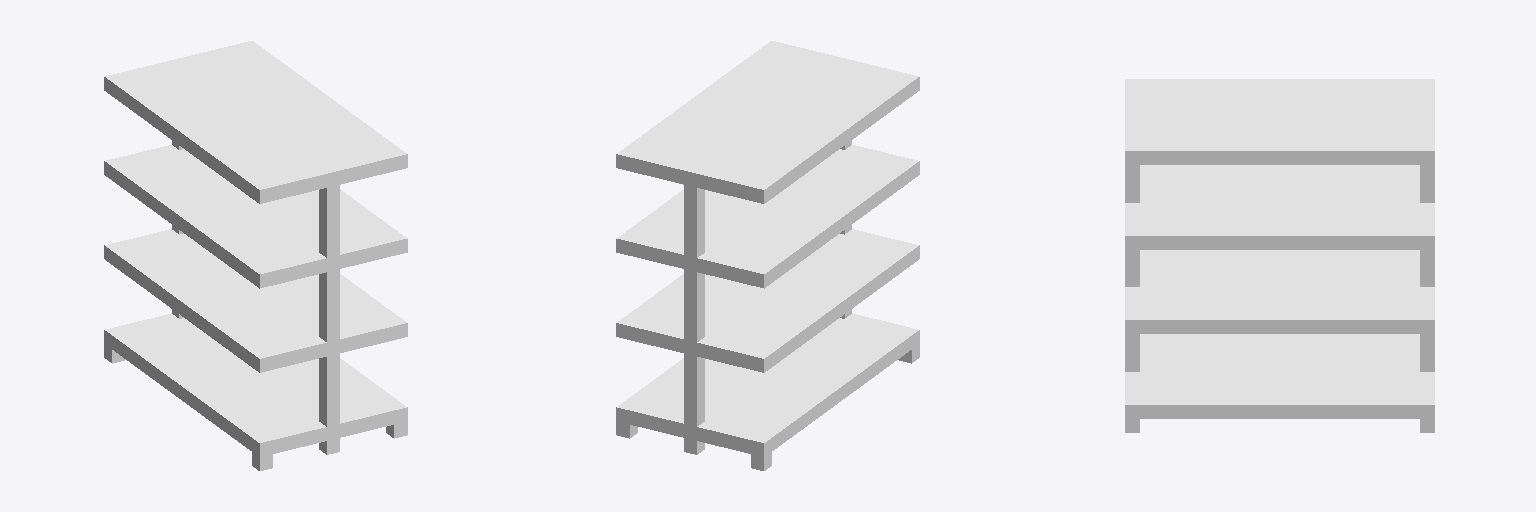
File: store_rack_2.obj
The picture shows the model from 3 angles: view 1: azimuth 30°, elevation 25°; view 2: azimuth 150°, elevation 25°; view 3: azimuth 270°, elevation 25°; orthographic projection.
Parts seen in each view (by area): view 1: store_rack_2; view 2: store_rack_2; view 3: store_rack_2.
Boxes of the visible parts, <box> form: store_rack_2: <box>104,41,407,470</box>; store_rack_2: <box>616,41,919,470</box>; store_rack_2: <box>1125,79,1434,432</box>.
Size of the model in its own units: 11 by 20 by 20.